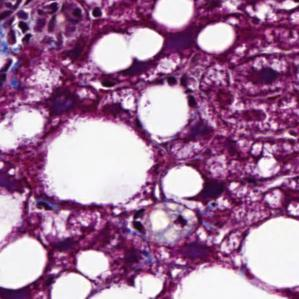inflammation: (0, 0, 65, 51), (234, 55, 292, 101), (125, 205, 152, 239)
